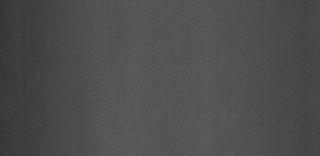silk spot: (20, 46, 48, 96)
